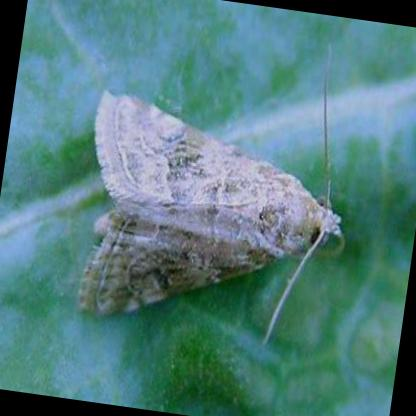Hellula undalis: (68, 40, 346, 349)
